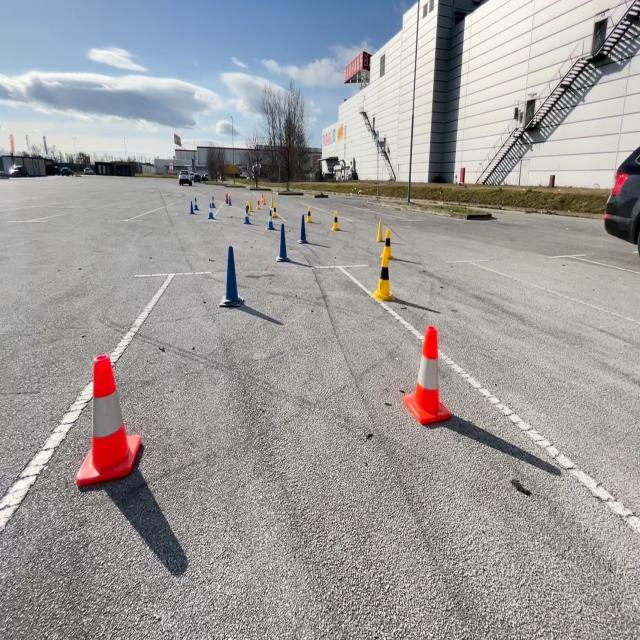blue_cone: (217, 243, 245, 308), (275, 221, 291, 262), (296, 214, 309, 244), (266, 206, 276, 232), (207, 199, 215, 219), (192, 196, 198, 212), (225, 192, 231, 206)
orange_cone: (74, 350, 140, 488), (402, 321, 452, 426)
yellow_cone: (368, 232, 394, 302), (374, 220, 389, 243), (330, 208, 341, 231), (243, 200, 252, 223), (271, 199, 278, 218), (306, 206, 313, 223)
